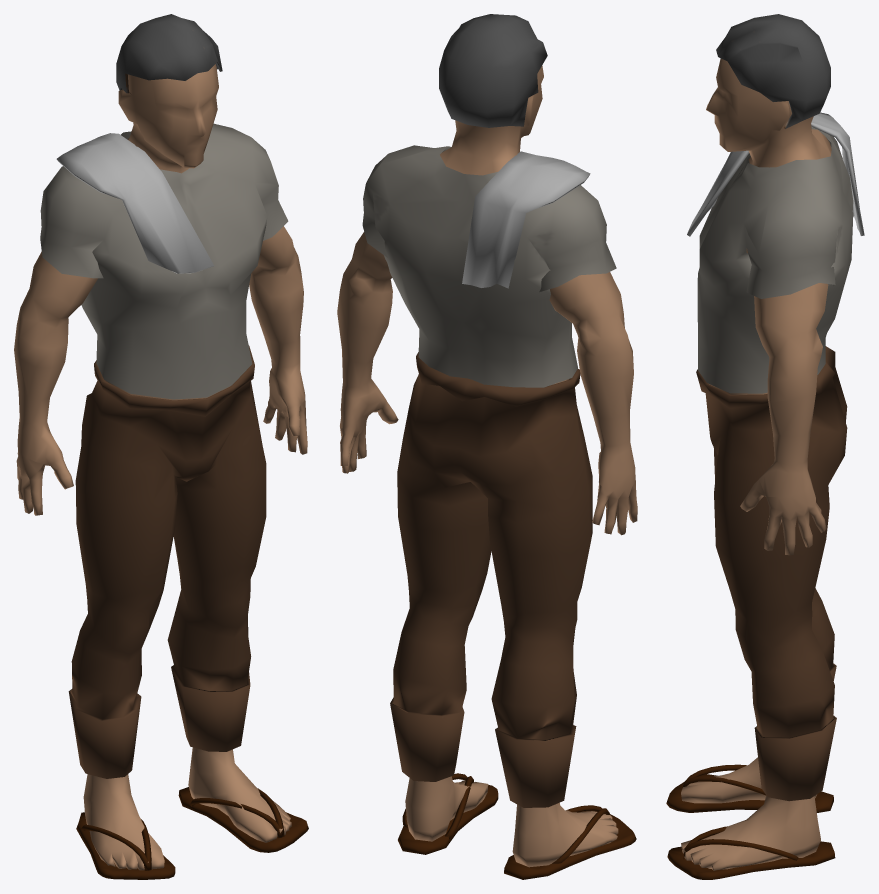
The model's file is Kasil.glb.
3 views of the same model, side by side, from view 1: azimuth 30°, elevation 25°; view 2: azimuth 150°, elevation 25°; view 3: azimuth 270°, elevation 25° (orthographic). The views are drawn at different scales.
Visible parts, largest first — view 1: polySurface12; view 2: polySurface12; view 3: polySurface12.
Boxes of the visible parts, left/top/right/bottom form: polySurface12: left=14, top=14, right=308, bottom=879; polySurface12: left=337, top=14, right=637, bottom=879; polySurface12: left=666, top=14, right=864, bottom=879.
Size of the model in its own units: 1.07 by 2.91 by 0.6433.
1 material, 1 textured.
